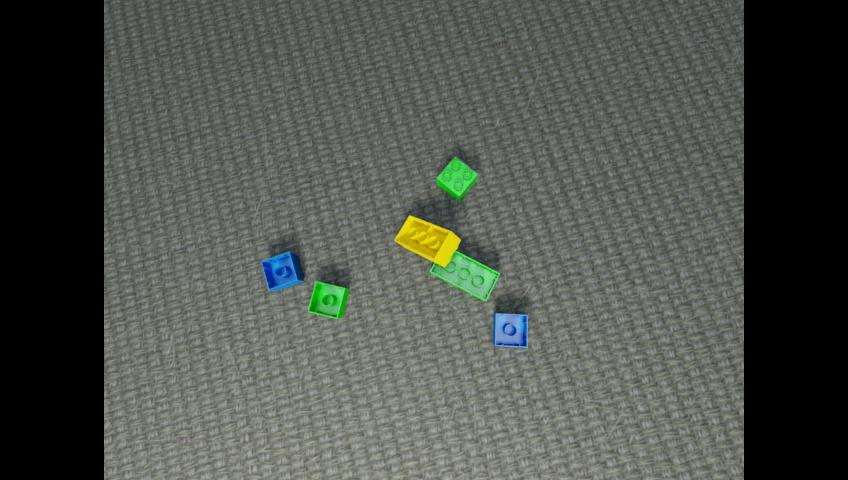2x2_blue: (261, 251, 303, 290), (495, 314, 528, 349)
2x2_green: (436, 156, 477, 200), (308, 281, 348, 318)
4x2_green: (430, 250, 498, 300)
4x2_yellow: (394, 215, 459, 266)
